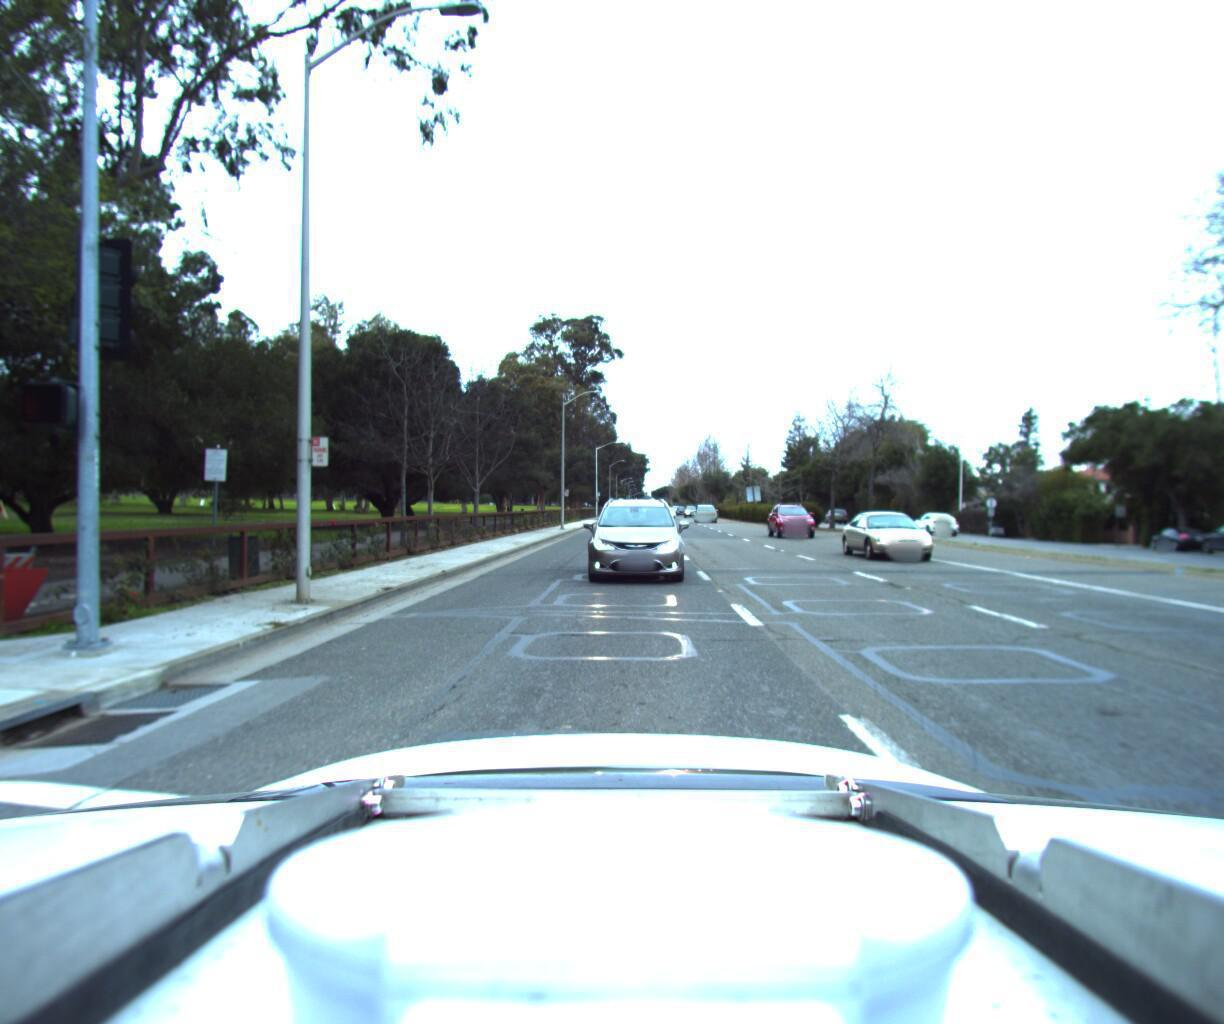car: (582, 489, 683, 581), (850, 505, 957, 562), (1143, 518, 1211, 548), (764, 497, 821, 533), (1191, 513, 1224, 554), (900, 504, 948, 528), (968, 515, 1006, 532), (694, 500, 718, 517)
